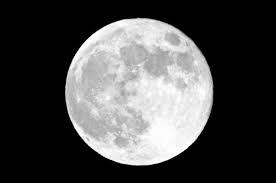moon: (54, 17, 215, 166)
